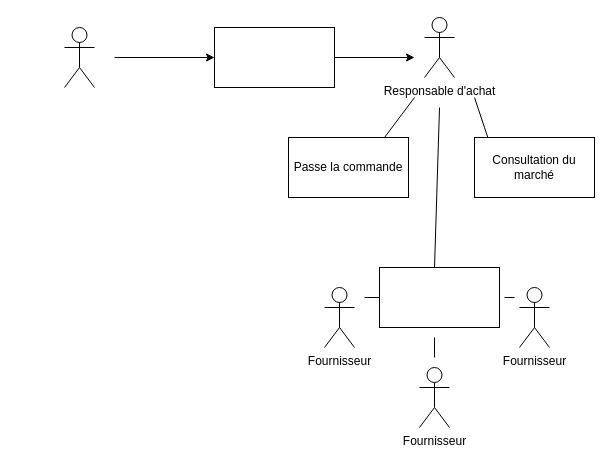
This 612x466 diagram has some shape labels left out. The shapes that lost their labels are listed below. From the top down, each one's centre as x and y in pixels, then its label:
the point at 79,57: Directeur de production
the point at 274,57: Description du besoin
the point at 439,297: Demande des échantillons et les prix
